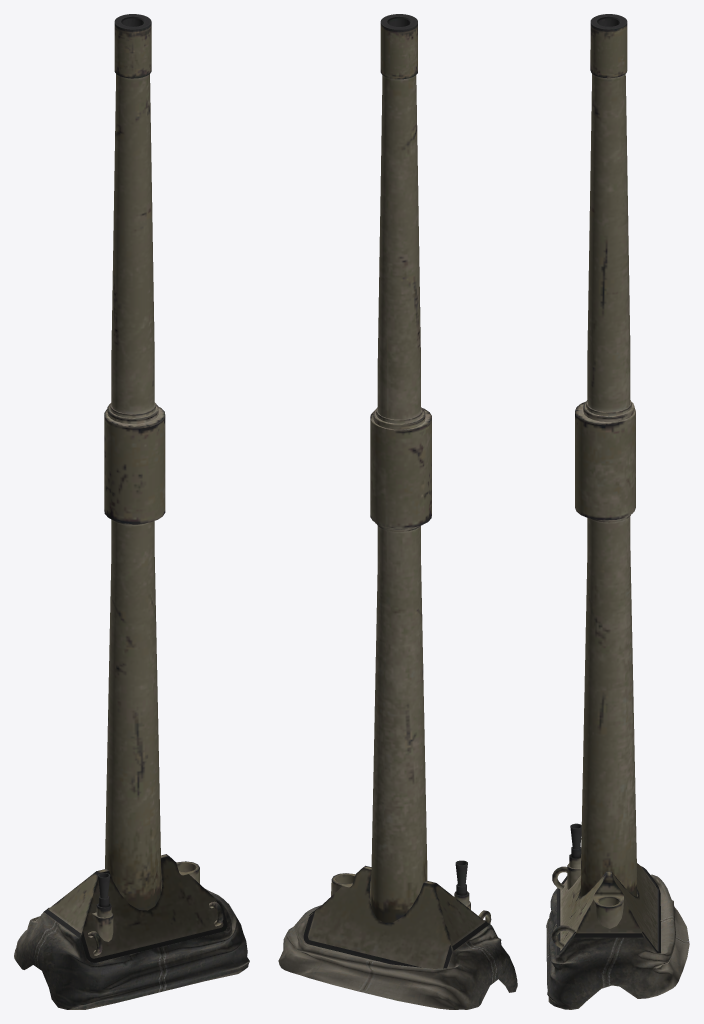
File: Gun_01.glb
The picture shows the model from 3 angles, left to right: view 1: azimuth 30°, elevation 25°; view 2: azimuth 150°, elevation 25°; view 3: azimuth 270°, elevation 25°; orthographic projection.
Parts seen in each view (by area): view 1: set_0_group_0; view 2: set_0_group_0; view 3: set_0_group_0.
Part boxes in pixels (x1,y1,x2,y2): set_0_group_0: (14,14,249,1009); set_0_group_0: (278,14,517,1009); set_0_group_0: (546,14,689,1009).
Bounding box in the file's own units: 1.02 × 4.81 × 0.6621.
1 material, 1 textured.
